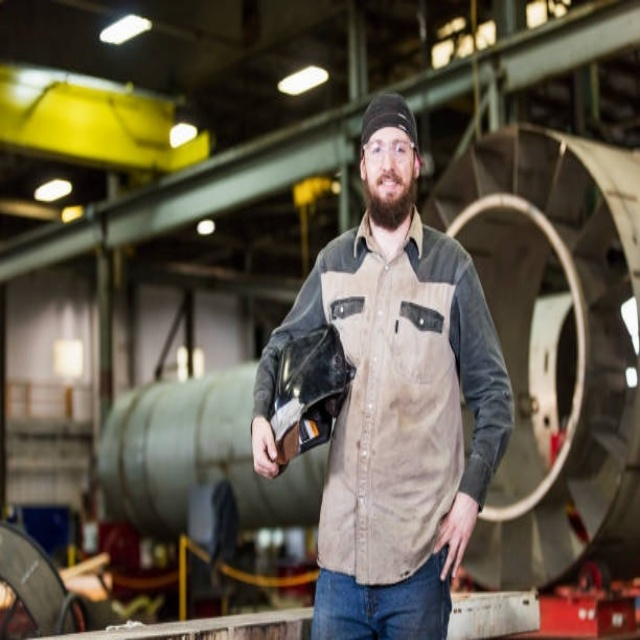Gafas: (364, 140, 418, 164)
Sin_guantes: (436, 486, 482, 576), (251, 414, 281, 480)
Sin_mascara: (373, 171, 399, 198)
